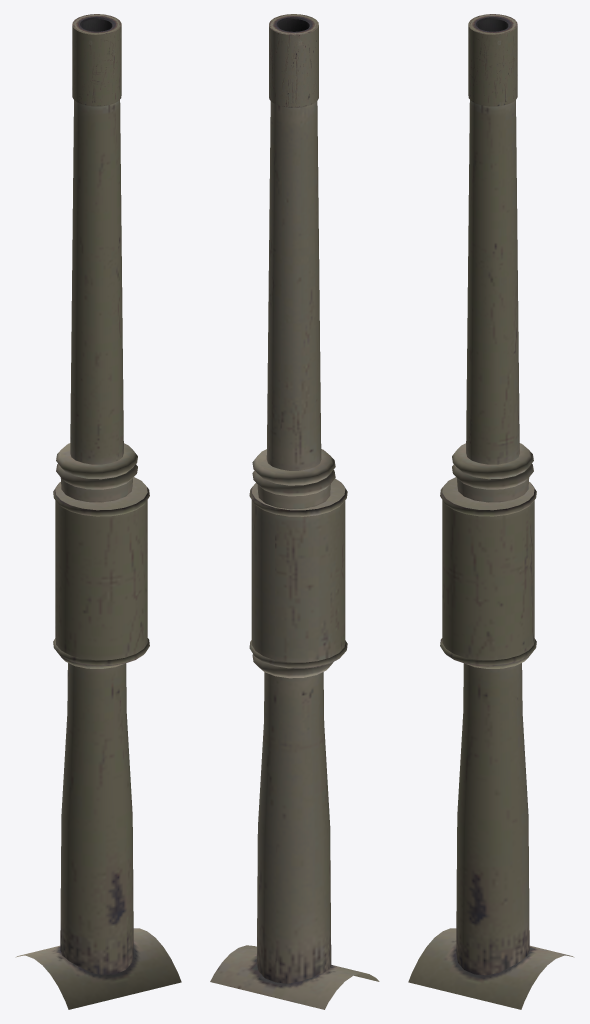
File: Gun_03.glb
3 views of the same model, side by side, from view 1: azimuth 30°, elevation 25°; view 2: azimuth 150°, elevation 25°; view 3: azimuth 330°, elevation 25° (orthographic).
Visible parts, largest first — view 1: set_0_group_0; view 2: set_0_group_0; view 3: set_0_group_0.
Part boxes in pixels (x1,y1,x2,y2): set_0_group_0: (15,14,181,1009); set_0_group_0: (210,14,379,1009); set_0_group_0: (408,14,574,1009).
Bounding box in the file's own units: 0.4409 × 3.54 × 0.3719.
Materials: 1 (1 with a texture image).
